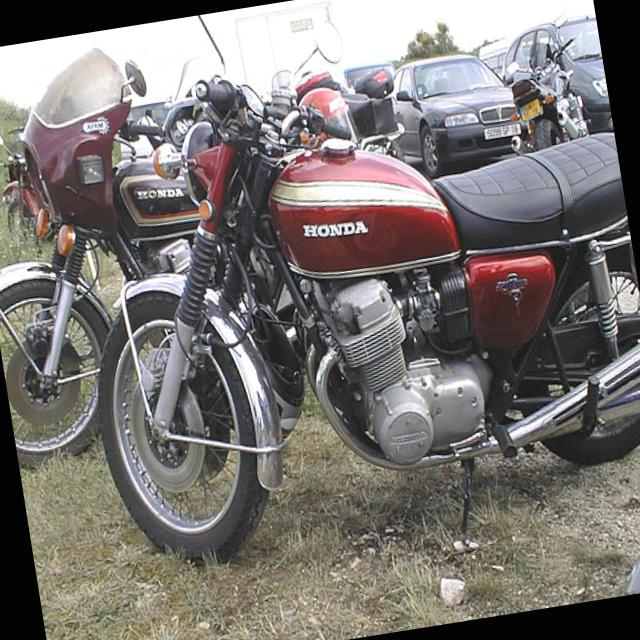Vehicle: (48, 16, 640, 605), (0, 35, 256, 473), (386, 48, 532, 185), (494, 11, 614, 146), (492, 12, 596, 158), (474, 29, 528, 78), (343, 61, 398, 94)
